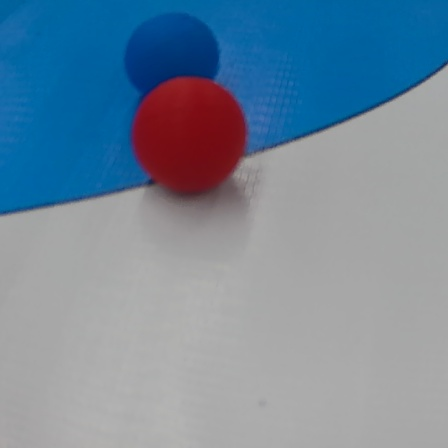blue: (117, 13, 226, 92)
blue_base: (2, 2, 448, 217)
red: (123, 71, 249, 198)
